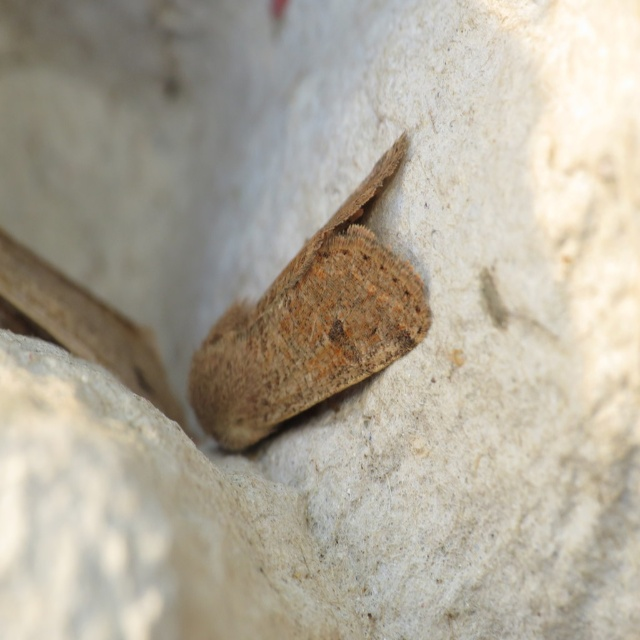Moths and butterflies: (186, 128, 434, 454)
